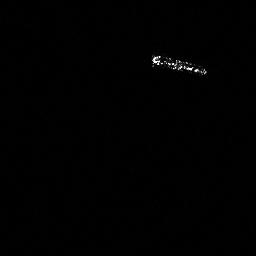ship: (150, 54, 207, 77)
